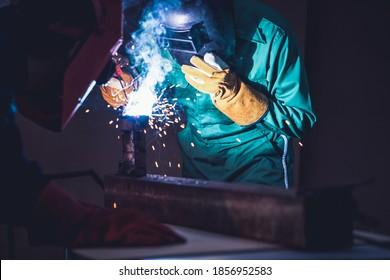gloves: (27, 179, 188, 247), (180, 51, 269, 128)
